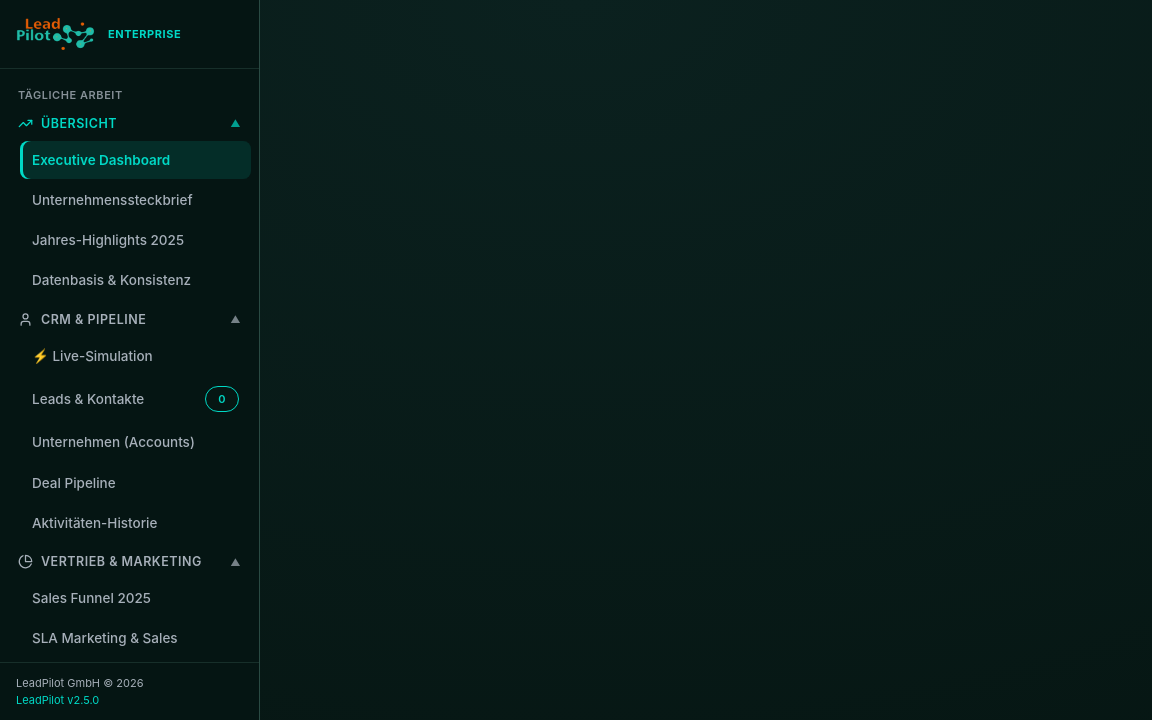
Test: Sidebar › toggles category expansion on click
Click the button "Übersicht ▲" at (130, 123), box [8, 108, 251, 138]
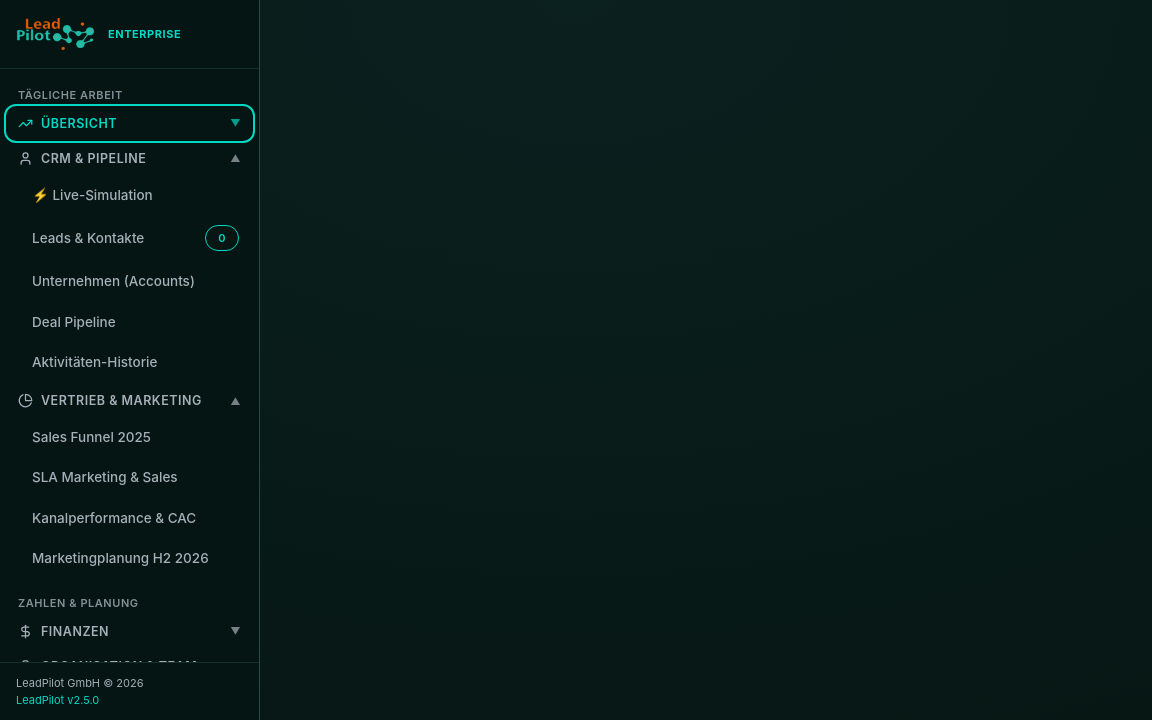
Check: the button "Übersicht ▼" is collapsed, box [8, 108, 251, 138]
